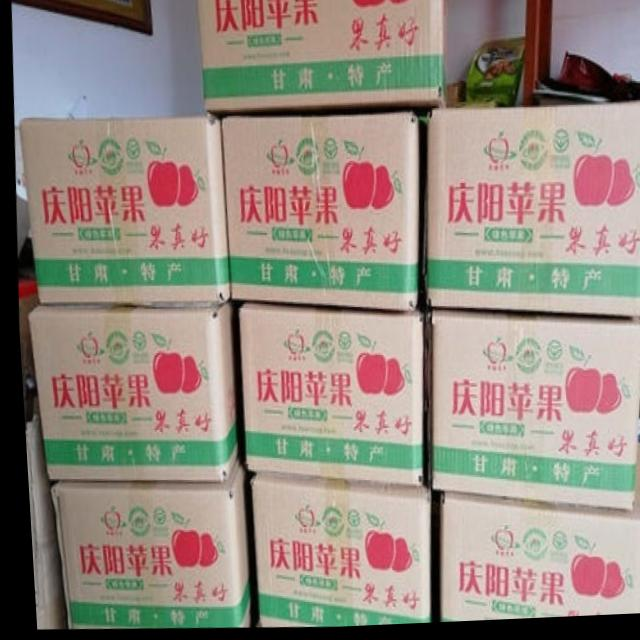box: (421, 105, 640, 323), (423, 312, 640, 516), (15, 115, 226, 308), (219, 115, 424, 313), (25, 299, 237, 483), (45, 453, 244, 627), (235, 304, 420, 489), (196, 0, 503, 110), (245, 474, 425, 627), (429, 497, 640, 625), (20, 412, 60, 627)
